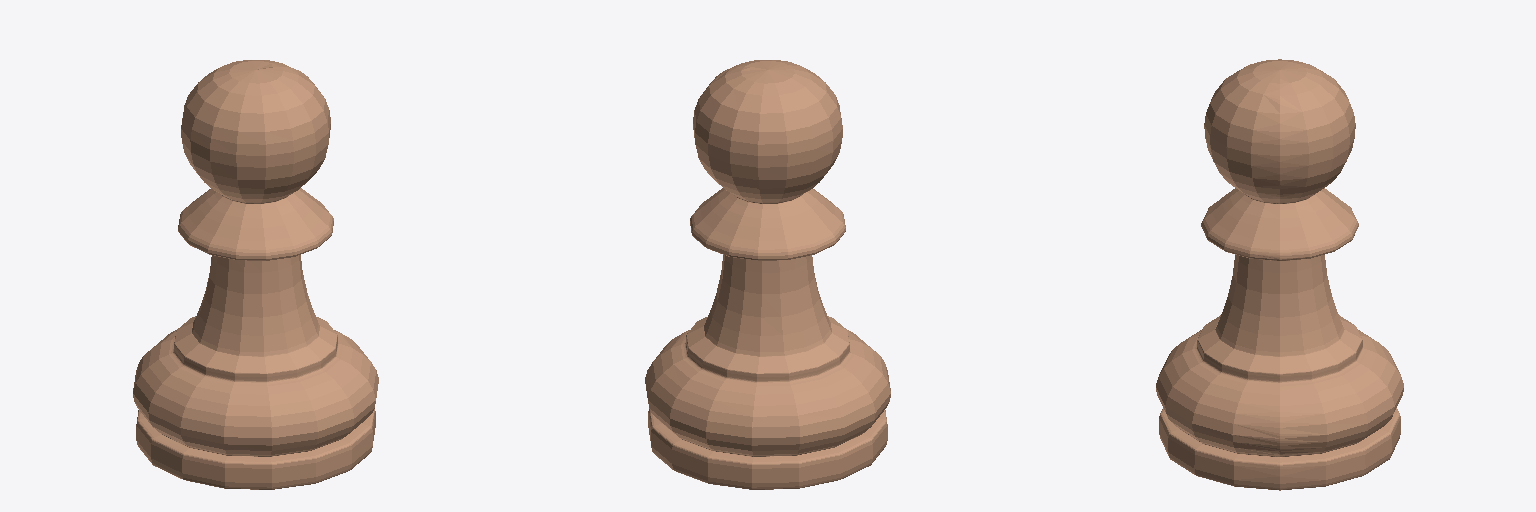
The model's file is pawn.obj.
3 renders of one model, left to right at view 1: azimuth 30°, elevation 25°; view 2: azimuth 150°, elevation 25°; view 3: azimuth 270°, elevation 25°, orthographic.
Parts seen in each view (by area): view 1: chess_revolvedSurface6; view 2: chess_revolvedSurface6; view 3: chess_revolvedSurface6.
Part boxes in pixels (x1,y1,x2,y2): chess_revolvedSurface6: (133, 60, 378, 489); chess_revolvedSurface6: (645, 60, 890, 489); chess_revolvedSurface6: (1156, 59, 1403, 490).
Size of the model in its own units: 1.46 by 2.41 by 1.46.